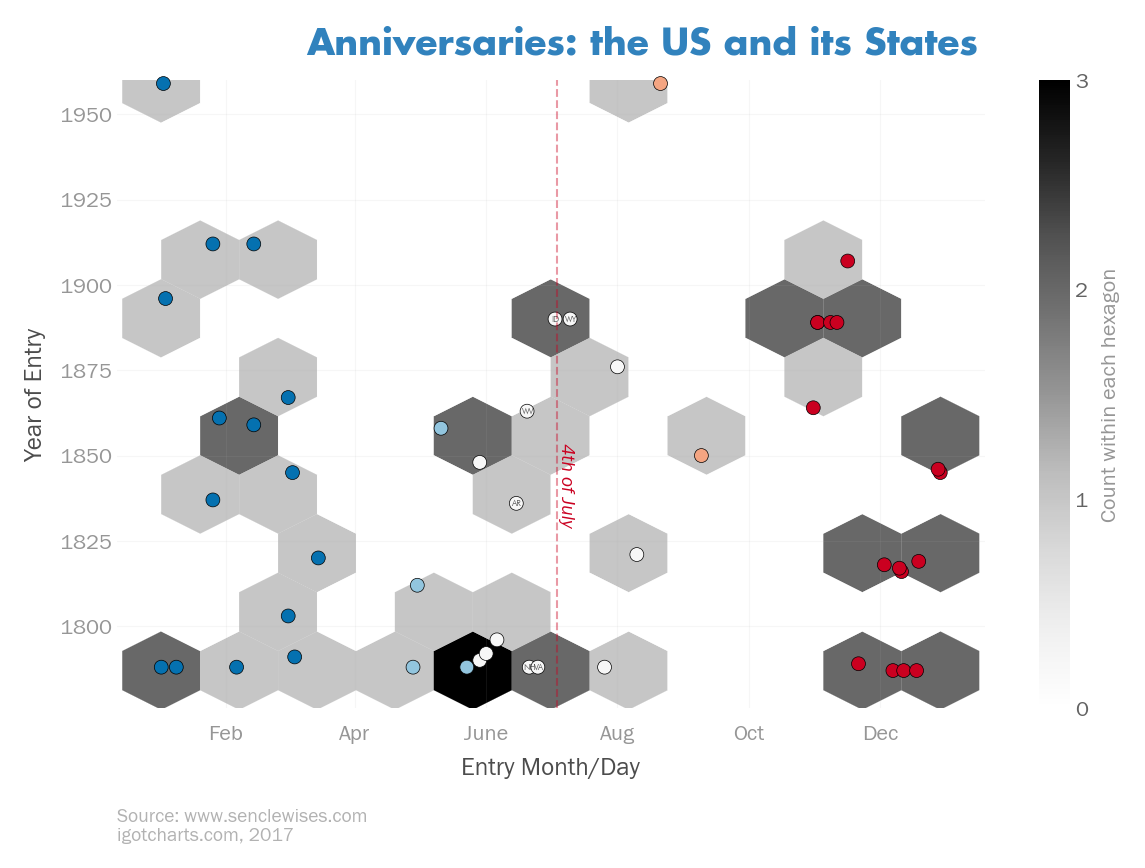

Layout of this report page (visuals, bound fields, positions):
{"tool":"tableau","page":{"name":"Dashboard 1","canvas":[1000,700],"ordinal":0},"visuals":[{"type":"worksheet","title":"Sheet 1","mark":"Shape","rows":["Function"],"cols":["Chart Type"],"box":[7,10,934,584]},{"type":"worksheet","title":"column totals","mark":"Automatic","cols":["Chart Type"],"box":[166,608,777,31]}]}

Visuals, with their boxes on the page's 1000x700 design canvas (x1, y1, x2, y2). These are canvas units, not pixel positions in the 1145x868 screenshot, which may show the page scaled, cropped or inside an application window:
"Sheet 1" worksheet (Shape marks): (left=7, top=10, right=941, bottom=594)
"column totals" worksheet: (left=166, top=608, right=943, bottom=639)
